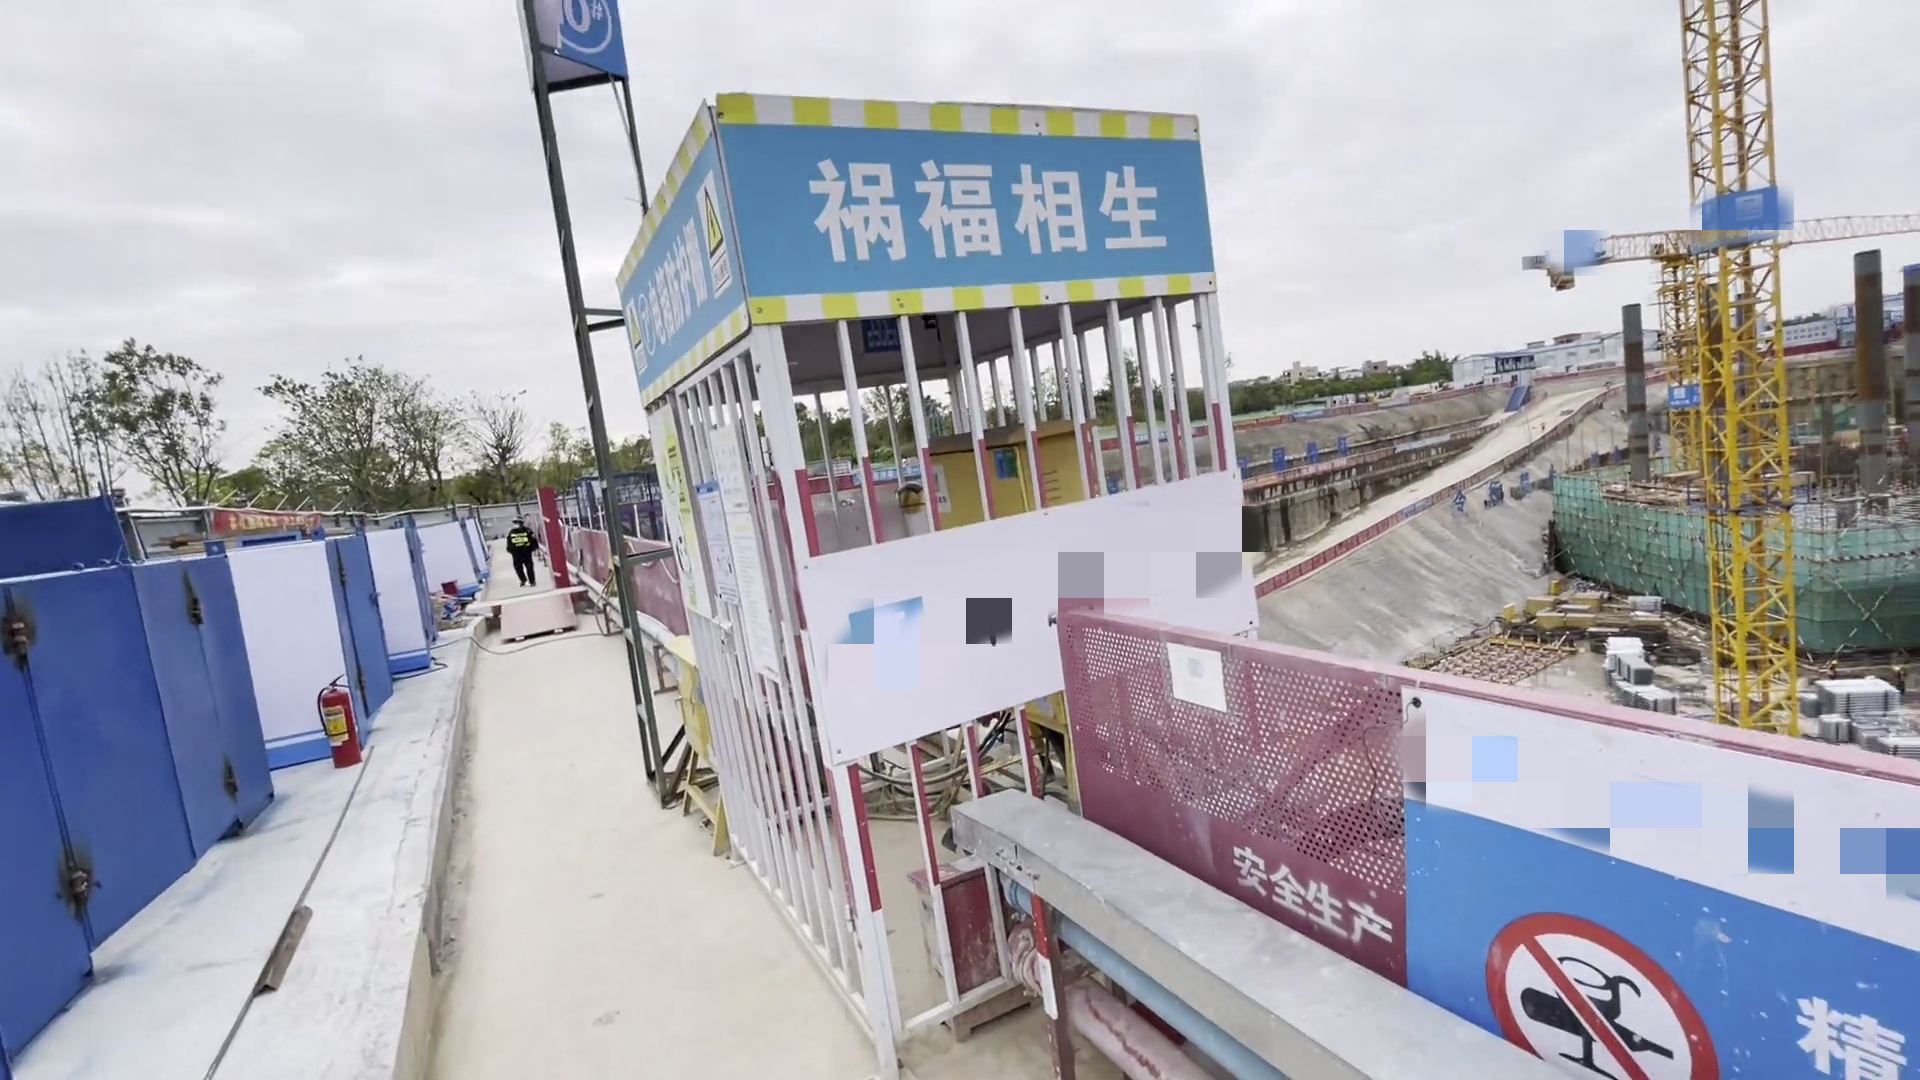board: (496, 589, 591, 654)
ebox: (911, 414, 1100, 737), (659, 632, 749, 859)
fence: (1048, 624, 1920, 1080), (568, 535, 704, 646), (1258, 520, 1344, 593)
helmet: (511, 514, 525, 523)
person: (501, 508, 551, 589)
scaffold: (1809, 667, 1899, 751), (1604, 634, 1685, 716), (1628, 588, 1668, 611)
slogan: (541, 85, 1311, 412), (1385, 662, 1920, 1080), (791, 480, 1276, 784), (637, 407, 790, 688), (514, 3, 641, 92), (1694, 188, 1807, 237), (311, 689, 372, 755), (198, 511, 337, 535), (1658, 373, 1717, 408)
vest: (502, 526, 535, 556)
wood: (1567, 588, 1612, 613)
